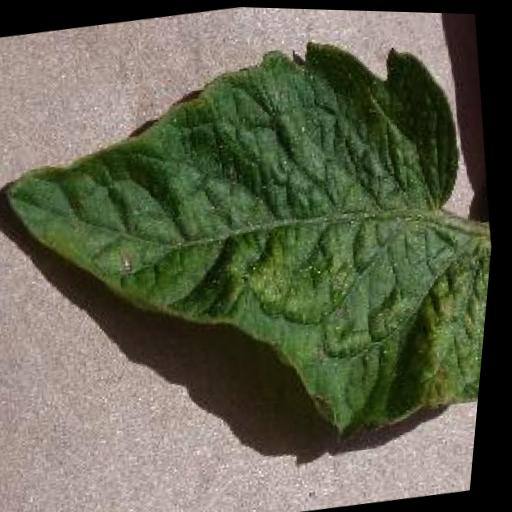Spider Mites: (0, 8, 511, 489)
